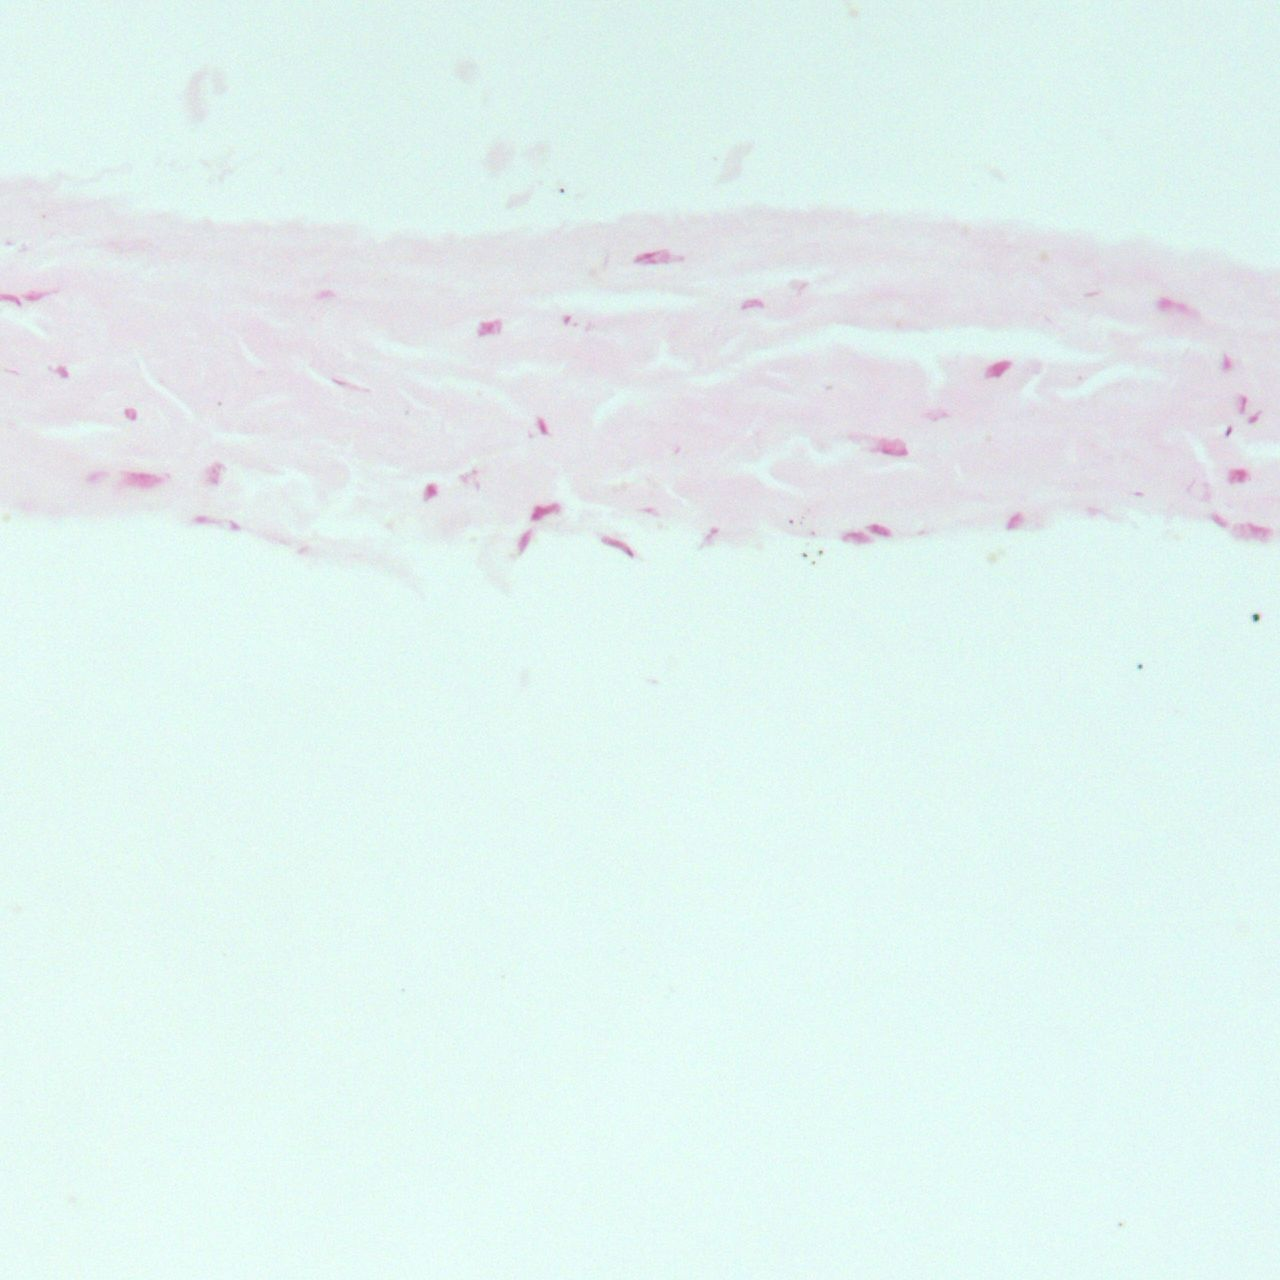dust: (1253, 613, 1259, 622), (1136, 663, 1142, 670), (559, 188, 565, 192)
nucleus-AC: (855, 428, 910, 459), (632, 245, 682, 268), (599, 530, 636, 560), (525, 496, 561, 523), (120, 469, 162, 488), (1232, 520, 1269, 542), (982, 358, 1012, 382), (513, 525, 537, 554), (699, 525, 722, 550), (457, 468, 483, 489), (866, 520, 893, 539), (1207, 509, 1230, 530), (1157, 298, 1187, 313), (331, 377, 362, 392), (1005, 510, 1024, 532), (478, 319, 501, 336), (535, 415, 552, 437), (843, 531, 872, 544), (206, 461, 222, 485), (84, 468, 110, 482), (1245, 409, 1264, 428), (23, 288, 48, 302), (1227, 468, 1250, 483), (48, 365, 70, 379), (422, 484, 440, 501), (741, 298, 764, 309), (641, 503, 659, 517), (922, 411, 948, 421), (1085, 505, 1102, 519), (124, 407, 139, 421), (229, 518, 241, 535), (1221, 353, 1231, 372), (316, 290, 334, 299), (1239, 394, 1247, 414), (195, 515, 210, 525), (561, 314, 574, 326), (670, 444, 681, 457), (1132, 491, 1145, 497)
